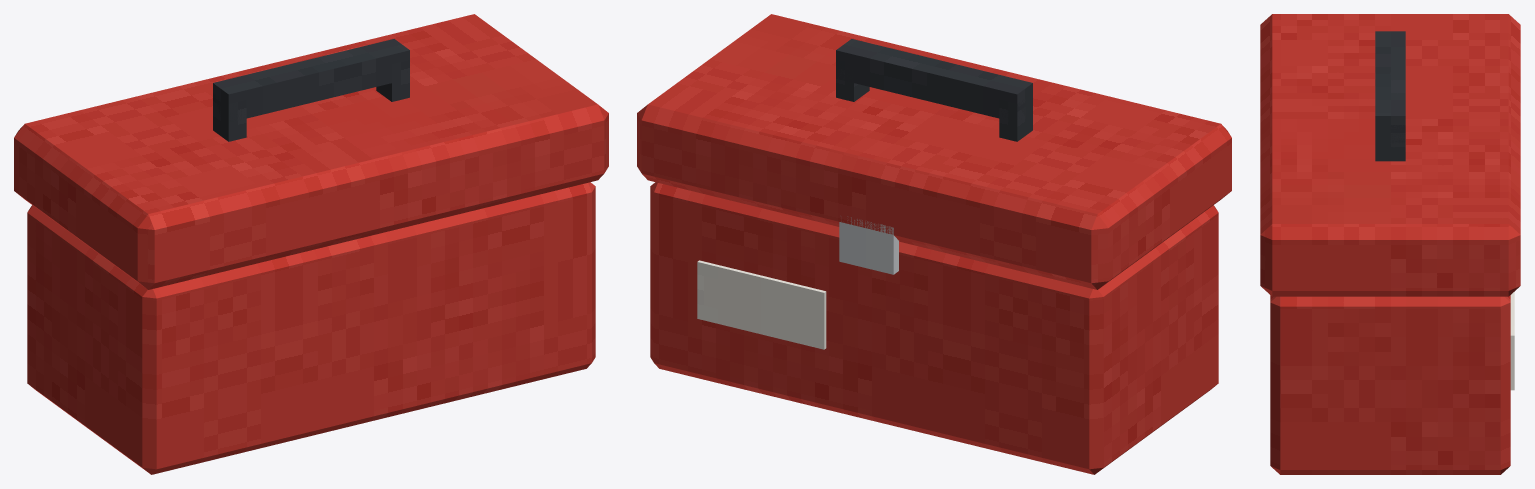
3 renders of one model, left to right at view 1: azimuth 30°, elevation 25°; view 2: azimuth 150°, elevation 25°; view 3: azimuth 270°, elevation 25°, orthographic. The views are drawn at different scales.
Parts seen in each view (by area): view 1: toolbox; view 2: toolbox; view 3: toolbox.
Part boxes in pixels (x1,y1,x2,y2): toolbox: (14,14,608,474); toolbox: (637,14,1231,474); toolbox: (1260,14,1520,474).
Bounding box in the file's own units: 0.52 × 0.33 × 0.26.
Materials: 4 (4 with a texture image).
